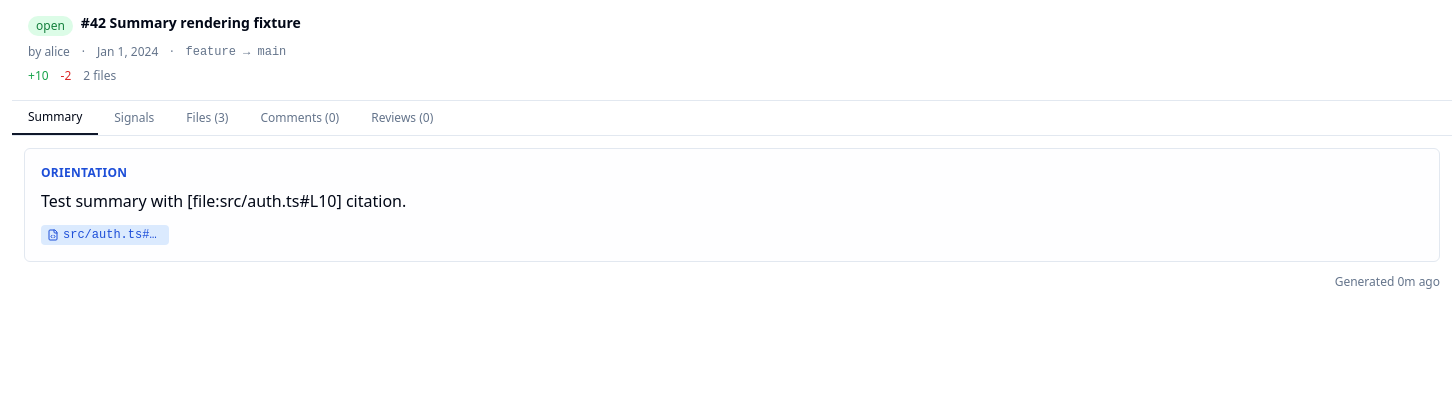
Scenario: PRViewer citation navigation › navigates to files tab and preserves line focus for line citations
The width and height of the screenshot is (1452, 396).
Click the button "src/auth.ts#10".
click(105, 235)  # box x1=41 y1=225 x2=169 y2=245
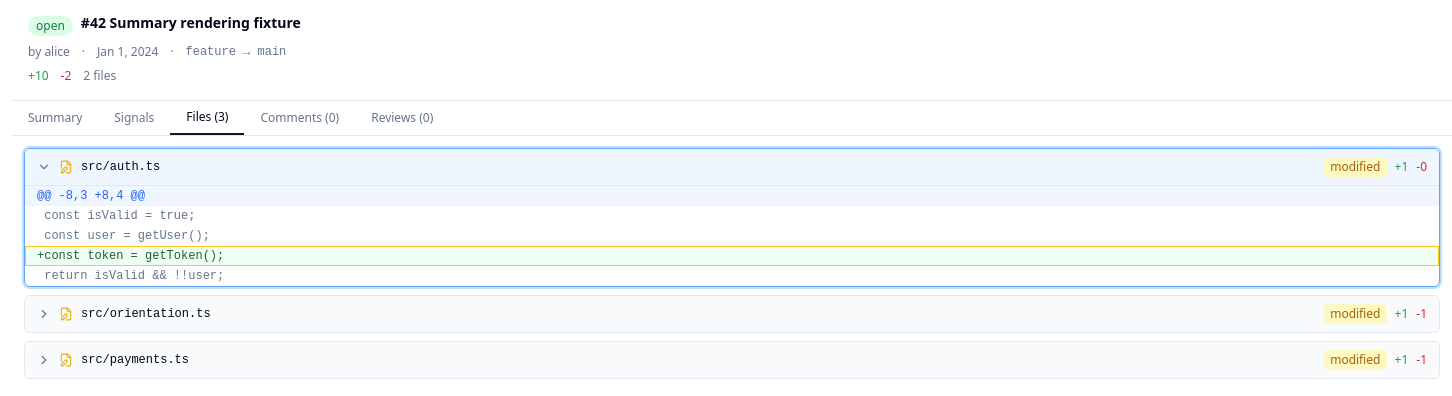
Result: the text "+const token = getToken();" is shown at x1=25 y1=246 x2=1439 y2=266
